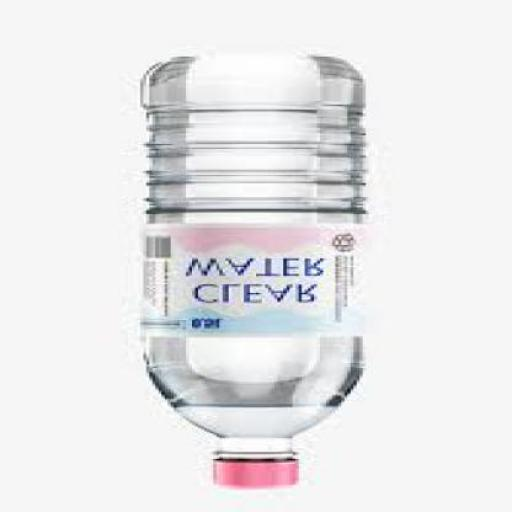plastic: (137, 60, 360, 490), (138, 225, 362, 339), (207, 456, 296, 488)
